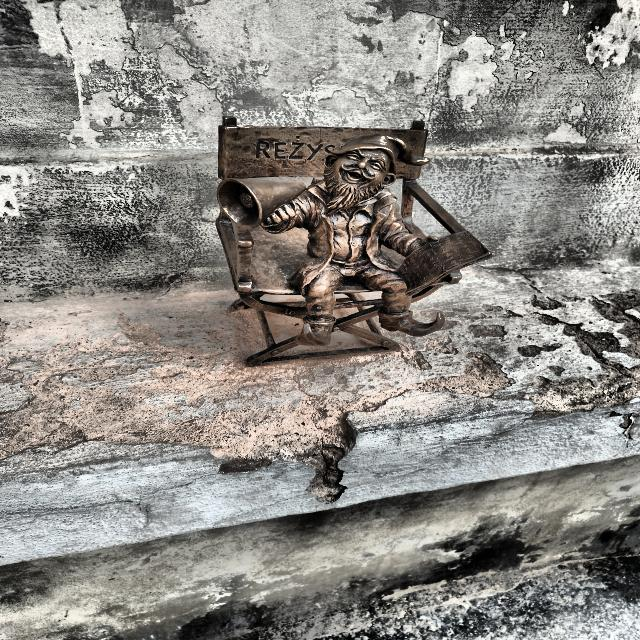Rezyser: (217, 118, 492, 366)
